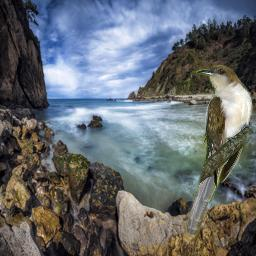Cuckoo: (185, 65, 254, 237)
